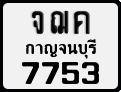letters: (50, 10, 69, 35), (81, 61, 99, 85), (73, 10, 90, 35), (22, 62, 40, 84), (42, 61, 59, 84), (62, 62, 79, 84), (31, 11, 44, 34)
province: (25, 37, 96, 59)
